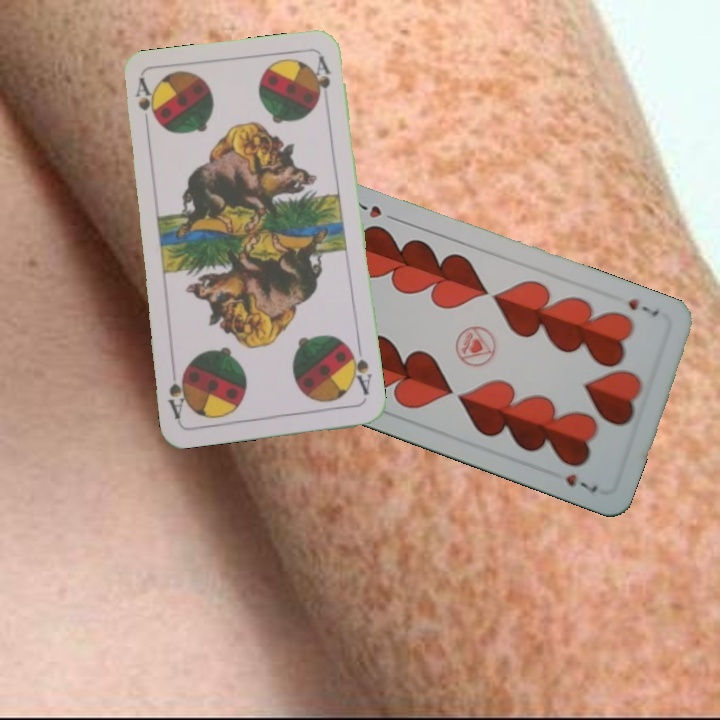H7: (623, 294, 662, 320)
SA: (344, 341, 375, 397), (131, 75, 156, 121)
